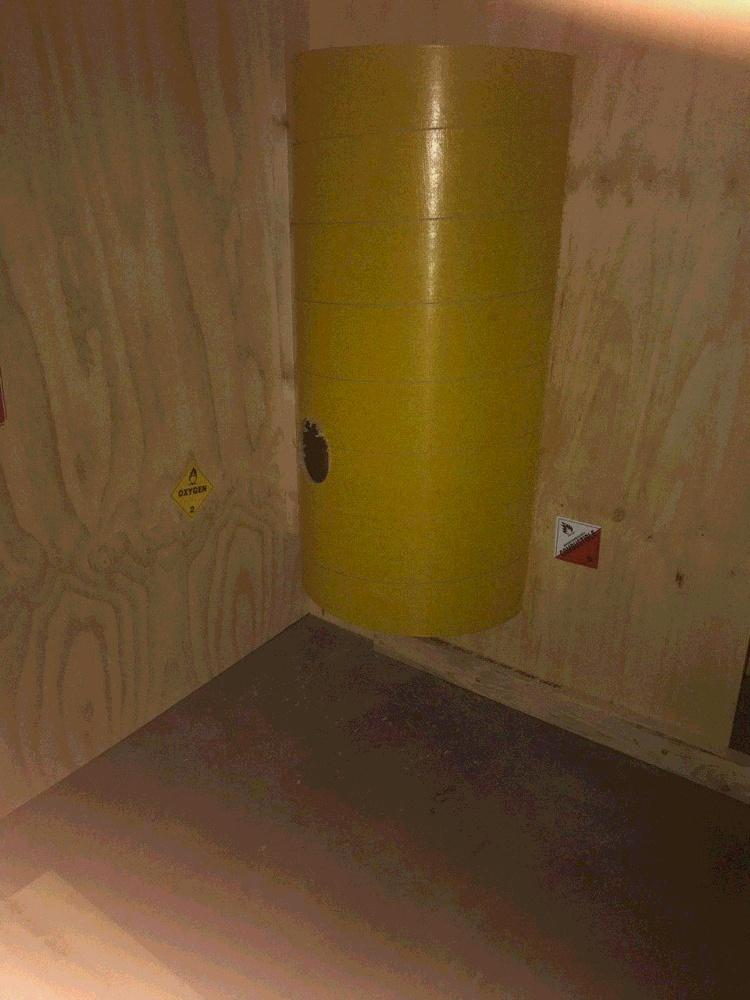oxidizer: (166, 460, 220, 524)
spontaneously-combustible: (550, 515, 606, 573)
